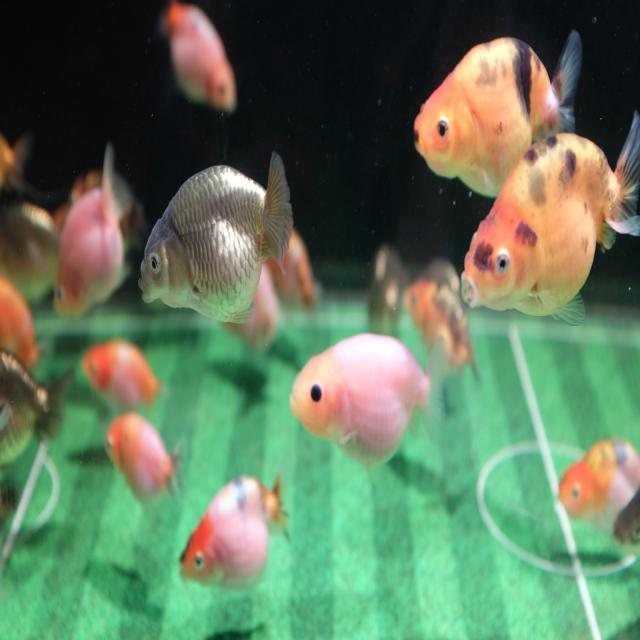Goldfish: (460, 108, 639, 326), (413, 29, 583, 199), (138, 150, 294, 326), (289, 331, 432, 469), (51, 142, 136, 322), (179, 472, 290, 590), (404, 278, 480, 396), (554, 436, 640, 540), (160, 1, 237, 113), (104, 412, 181, 508), (80, 338, 162, 412)
